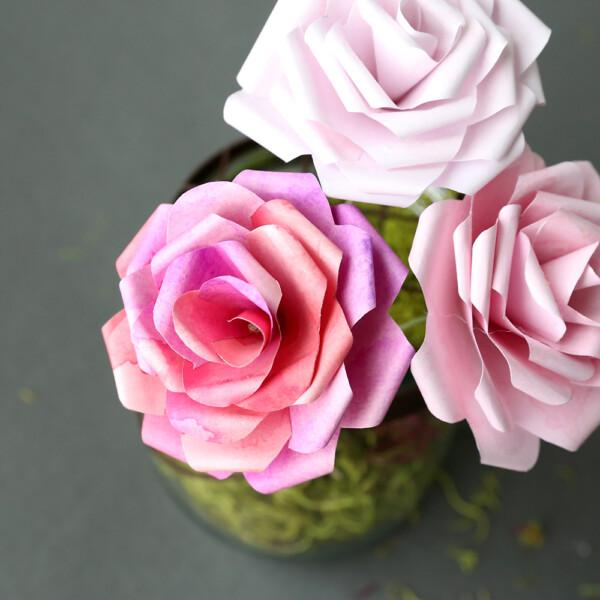Rose: (92, 158, 402, 498), (224, 0, 559, 186), (427, 159, 600, 491)
